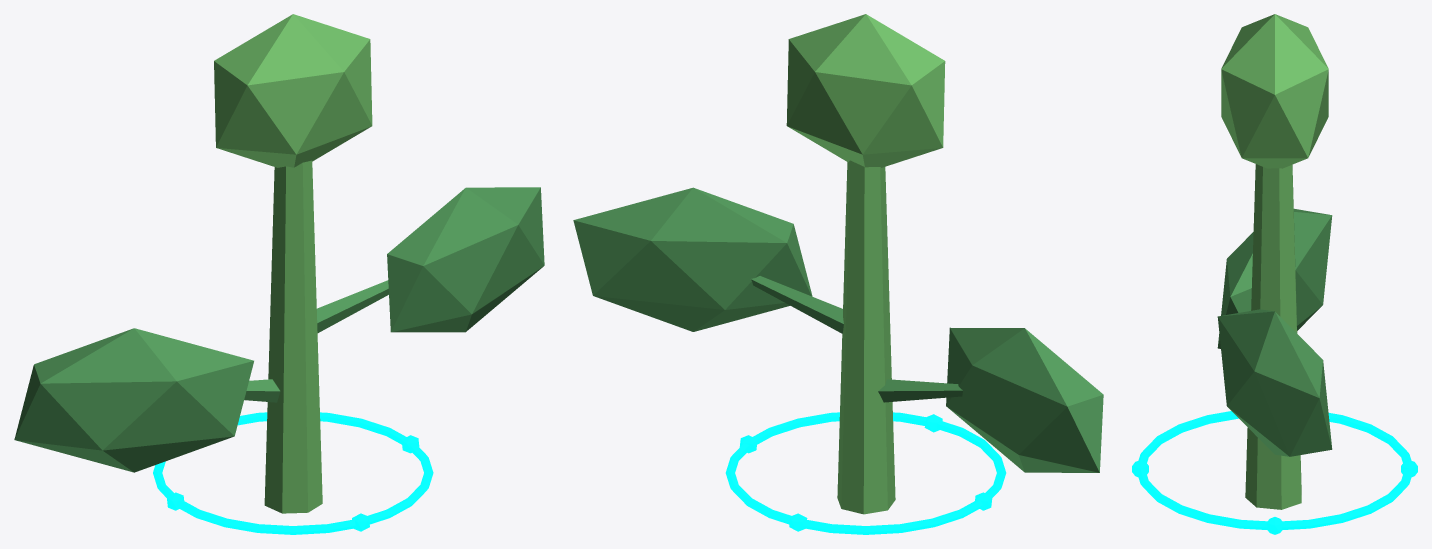
Rendered from seedling.glb.
3 views of the same model, side by side, from view 1: azimuth 30°, elevation 25°; view 2: azimuth 150°, elevation 25°; view 3: azimuth 270°, elevation 25° (orthographic).
Visible parts, largest first — view 1: Sunflower_Leaf_01, Sunflower_Top_Leaf, Sunflower_Leaf_02, Sunflower_Stem, Chrono_Energy_Ring, Leaf_Stem_02, Leaf_Stem_01; view 2: Sunflower_Leaf_02, Sunflower_Top_Leaf, Sunflower_Leaf_01, Sunflower_Stem, Chrono_Energy_Ring, Leaf_Stem_02, Leaf_Stem_01; view 3: Sunflower_Top_Leaf, Sunflower_Leaf_02, Sunflower_Stem, Sunflower_Leaf_01, Chrono_Energy_Ring.
Boxes of the visible parts, x1,y1,x2,y2 form: Sunflower_Leaf_01: (14, 328, 253, 472); Sunflower_Top_Leaf: (214, 14, 372, 167); Sunflower_Leaf_02: (387, 187, 544, 332); Sunflower_Stem: (264, 160, 322, 513); Chrono_Energy_Ring: (153, 412, 433, 534); Leaf_Stem_02: (316, 280, 388, 332); Leaf_Stem_01: (244, 379, 280, 402); Sunflower_Leaf_02: (573, 187, 812, 331); Sunflower_Top_Leaf: (786, 14, 945, 167); Sunflower_Leaf_01: (946, 327, 1103, 472); Sunflower_Stem: (837, 160, 895, 514); Chrono_Energy_Ring: (725, 412, 1006, 534); Leaf_Stem_02: (751, 276, 843, 333); Leaf_Stem_01: (878, 379, 962, 402); Sunflower_Top_Leaf: (1221, 14, 1328, 168); Sunflower_Leaf_02: (1217, 309, 1332, 456); Sunflower_Stem: (1245, 164, 1301, 509); Sunflower_Leaf_01: (1217, 208, 1332, 348); Chrono_Energy_Ring: (1137, 411, 1412, 529).
Bounding box in the file's own units: 1.52 × 1.35 × 0.7234.
